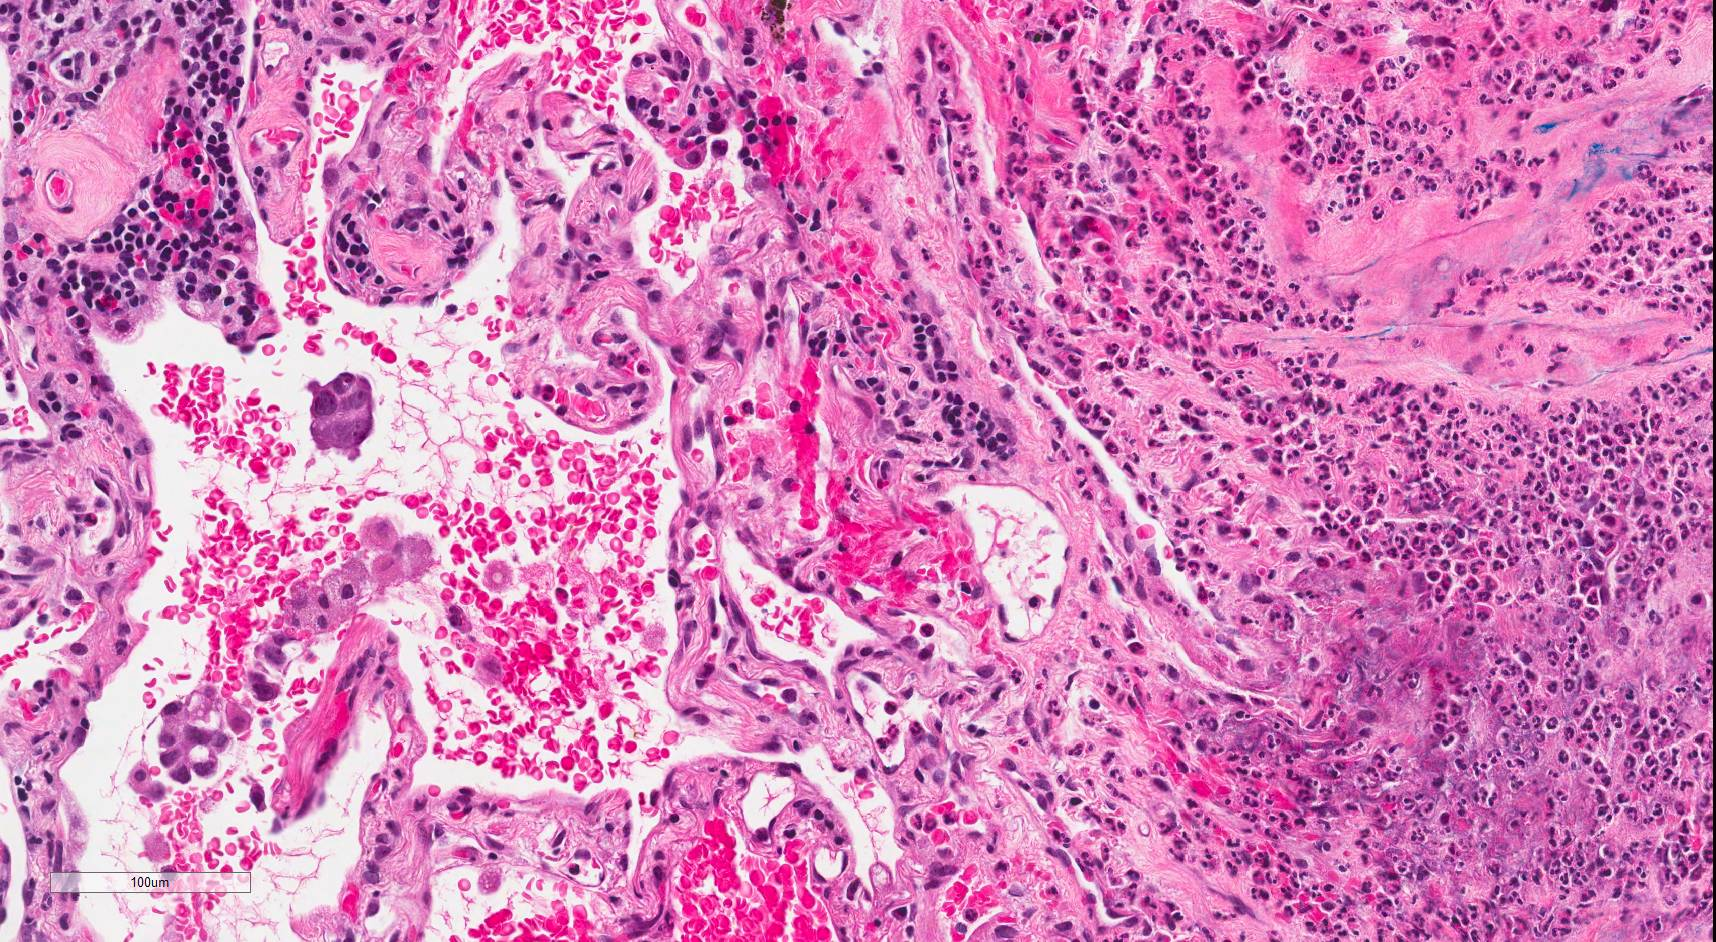stas: (249, 568, 358, 703), (154, 693, 233, 791), (305, 367, 379, 458)
